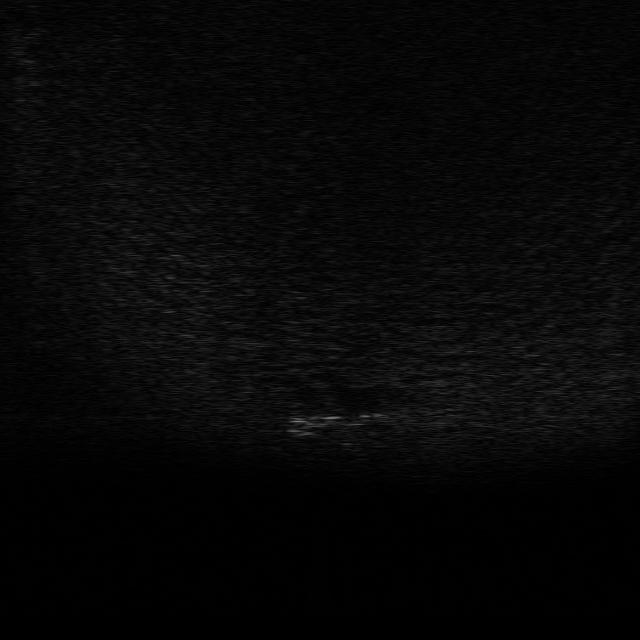plane: (279, 392, 390, 448)
